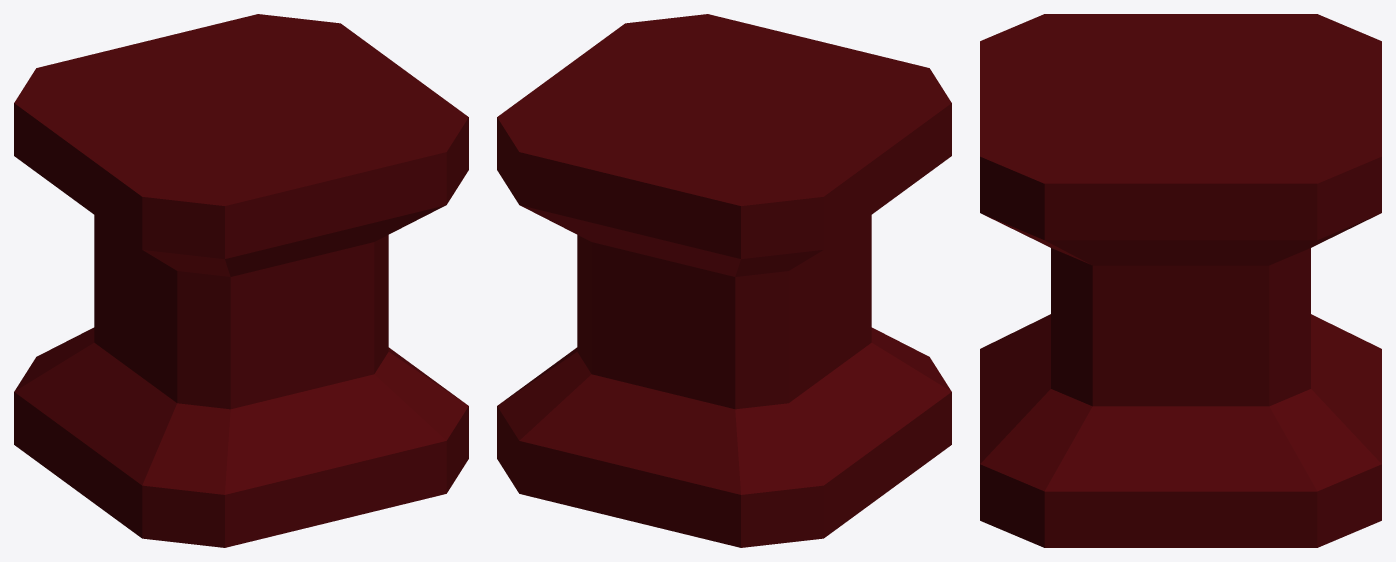
The model's file is 4_Support.fbx.
3 views of the same model, side by side, from view 1: azimuth 30°, elevation 25°; view 2: azimuth 150°, elevation 25°; view 3: azimuth 270°, elevation 25° (orthographic). The views are drawn at different scales.
Visible parts, largest first — view 1: Support; view 2: Support; view 3: Support.
Part boxes in pixels (x1,y1,x2,y2): Support: [14, 14, 468, 547]; Support: [497, 14, 951, 547]; Support: [980, 14, 1381, 547].
Size of the model in its own units: 100 by 100 by 100.
